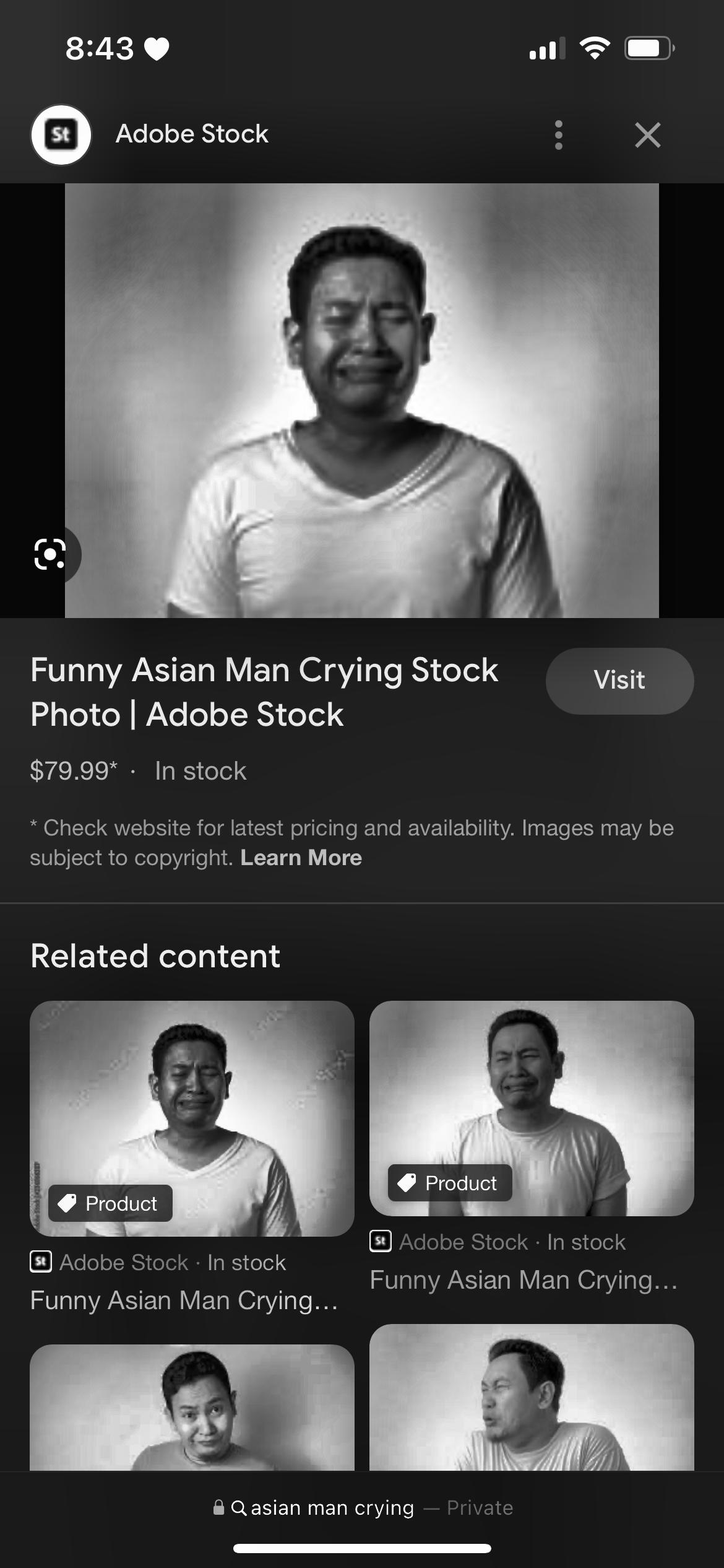sad: (277, 269, 427, 425)
